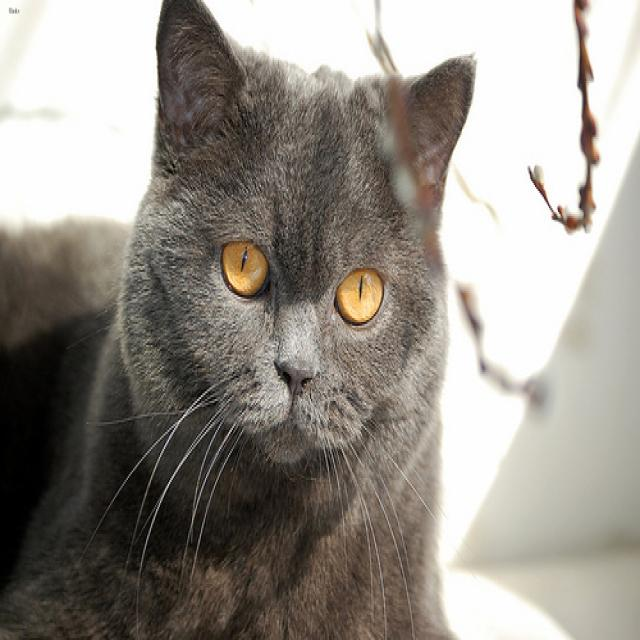cat: (147, 0, 475, 465)
